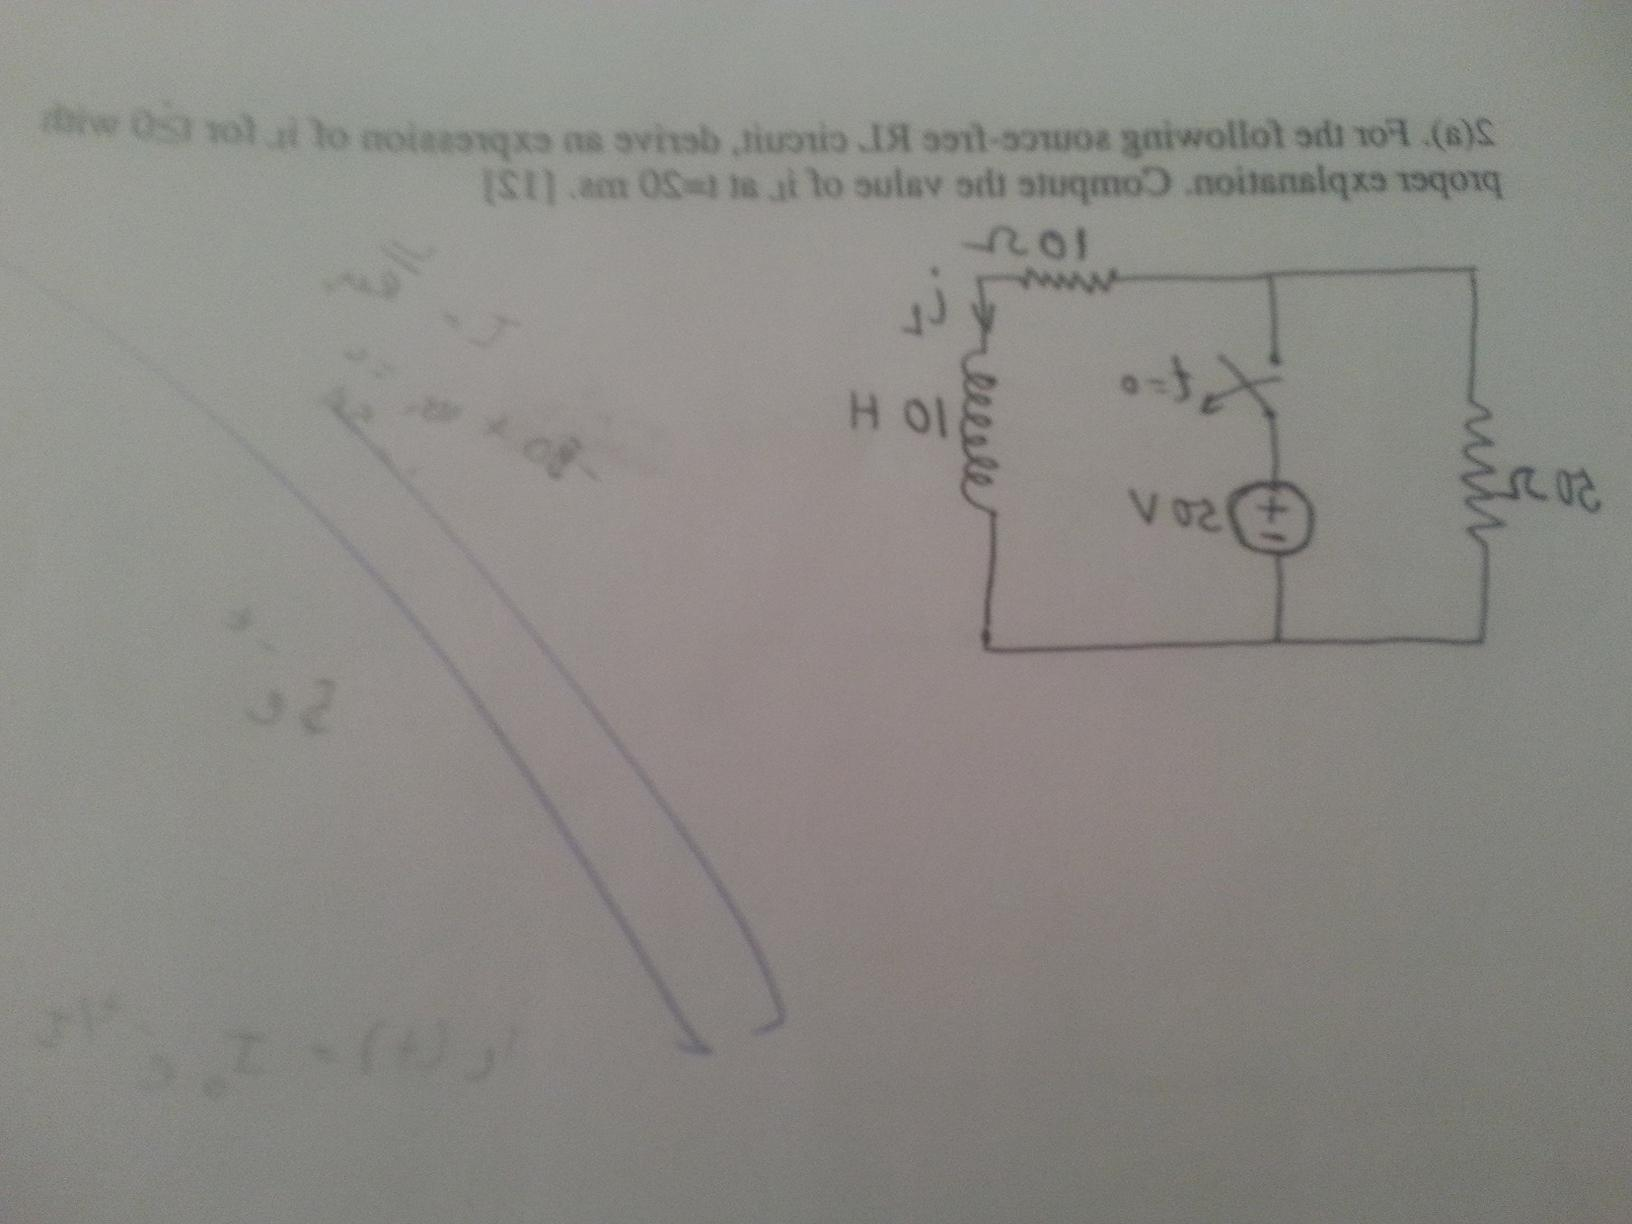Battery: (1216, 467, 1338, 561)
